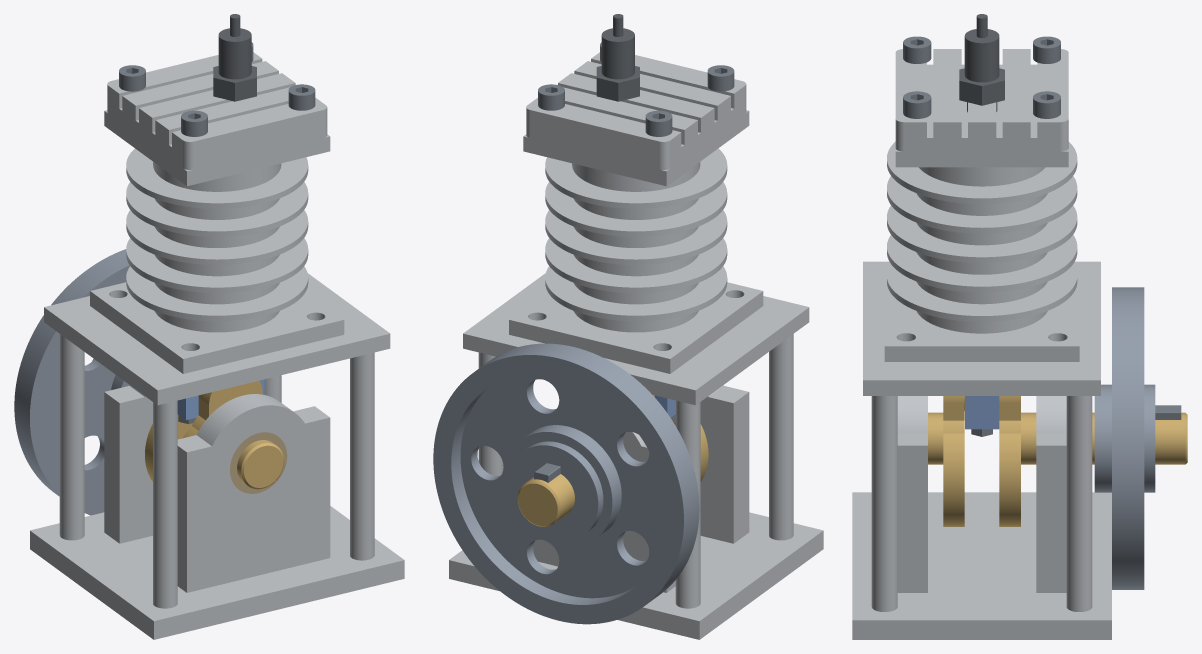
Rendered from piston_crank.glb.
3 views of the same model, side by side, from view 1: azimuth 30°, elevation 25°; view 2: azimuth 150°, elevation 25°; view 3: azimuth 270°, elevation 25° (orthographic). The views are drawn at different scales.
Parts seen in each view (by area): view 1: crankcase frame, cylinder barrel, cylinder head, flywheel, crankshaft, spark plug M14, main bush 2, head screw 3, head screw 2, head screw 4; view 2: flywheel, cylinder barrel, crankcase frame, cylinder head, spark plug M14, crankshaft, head screw 2, head screw 4, head screw 1; view 3: crankcase frame, cylinder barrel, cylinder head, flywheel, crankshaft, spark plug M14, head screw 3, head screw 4, big end cap, head screw 2, head screw 1, connecting rod.
Boxes of the visible parts, <box> form: crankcase frame: <box>30,273,404,639</box>; cylinder barrel: <box>90,110,344,373</box>; cylinder head: <box>107,52,327,169</box>; flywheel: <box>14,249,129,515</box>; crankshaft: <box>145,380,284,489</box>; spark plug M14: <box>213,14,256,101</box>; main bush 2: <box>230,432,287,493</box>; head screw 3: <box>288,84,315,110</box>; head screw 2: <box>119,65,145,91</box>; head screw 4: <box>181,110,207,136</box>; flywheel: <box>433,343,699,624</box>; cylinder barrel: <box>509,110,763,373</box>; crankcase frame: <box>449,273,823,639</box>; cylinder head: <box>526,52,746,169</box>; spark plug M14: <box>596,14,639,101</box>; crankshaft: <box>517,395,708,526</box>; head screw 2: <box>645,110,672,136</box>; head screw 4: <box>707,65,734,91</box>; head screw 1: <box>538,84,564,110</box>; crankcase frame: <box>852,261,1111,639</box>; cylinder barrel: <box>884,141,1079,361</box>; cylinder head: <box>895,49,1068,151</box>; flywheel: <box>1094,287,1155,589</box>; crankshaft: <box>928,396,1187,526</box>; spark plug M14: <box>959,14,1004,112</box>; head screw 3: <box>903,91,931,118</box>; head screw 4: <box>903,36,931,63</box>; big end cap: <box>965,409,999,429</box>; head screw 2: <box>1033,36,1060,63</box>; head screw 1: <box>1033,91,1060,118</box>; connecting rod: <box>965,396,999,409</box>.
Bounding box in the file's own units: 140 × 290 × 155.
